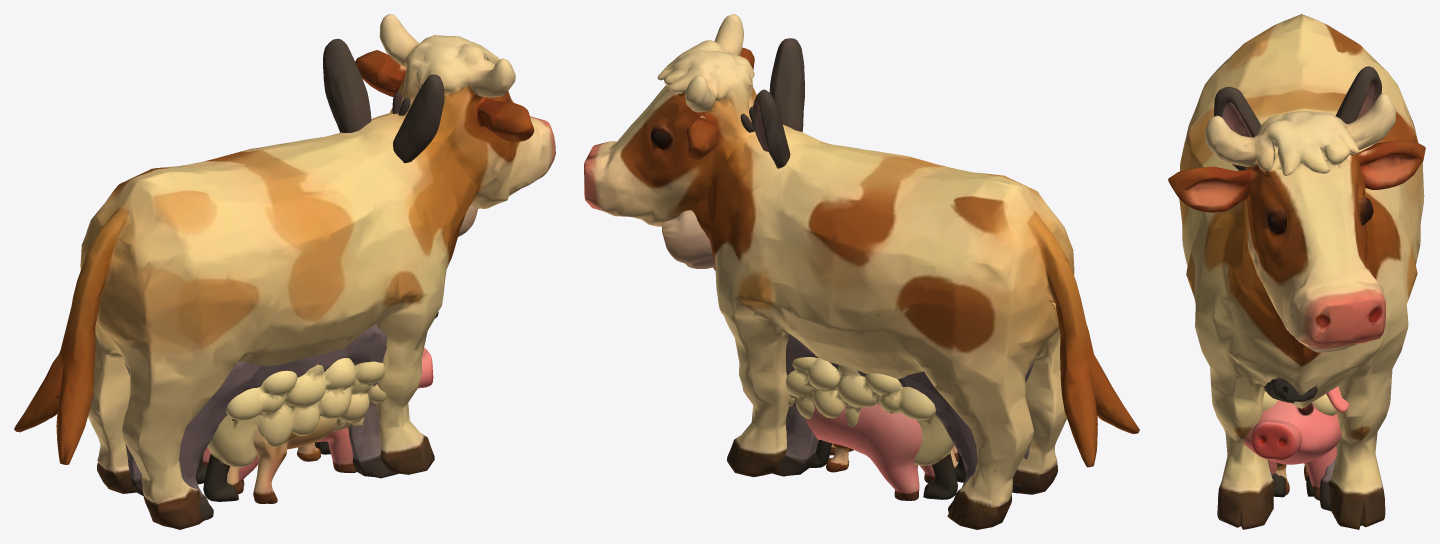
File: betail.glb
3 views of the same model, side by side, from view 1: azimuth 30°, elevation 25°; view 2: azimuth 150°, elevation 25°; view 3: azimuth 270°, elevation 25° (orthographic). The views are drawn at different scales.
Parts seen in each view (by area): view 1: vache, ane, mouton, chevre, cochon; view 2: vache, ane, mouton, cochon, chevre; view 3: vache, cochon, ane, mouton.
Part boxes in pixels (left/top/right/bottom): vache: left=14, top=14, right=555, bottom=529; ane: left=125, top=38, right=477, bottom=520; mouton: left=195, top=312, right=438, bottom=501; chevre: left=227, top=416, right=336, bottom=503; cochon: left=202, top=348, right=433, bottom=486; vache: left=584, top=14, right=1139, bottom=529; ane: left=662, top=38, right=1033, bottom=512; mouton: left=786, top=357, right=966, bottom=499; cochon: left=805, top=404, right=934, bottom=500; chevre: left=826, top=443, right=958, bottom=472; vache: left=1168, top=14, right=1425, bottom=529; cochon: left=1244, top=386, right=1349, bottom=500; ane: left=1214, top=66, right=1381, bottom=511; mouton: left=1262, top=377, right=1337, bottom=497.
Bounding box in the file's own units: 2.4 × 1.73 × 0.9042.
Materials: 1 (1 with a texture image).
